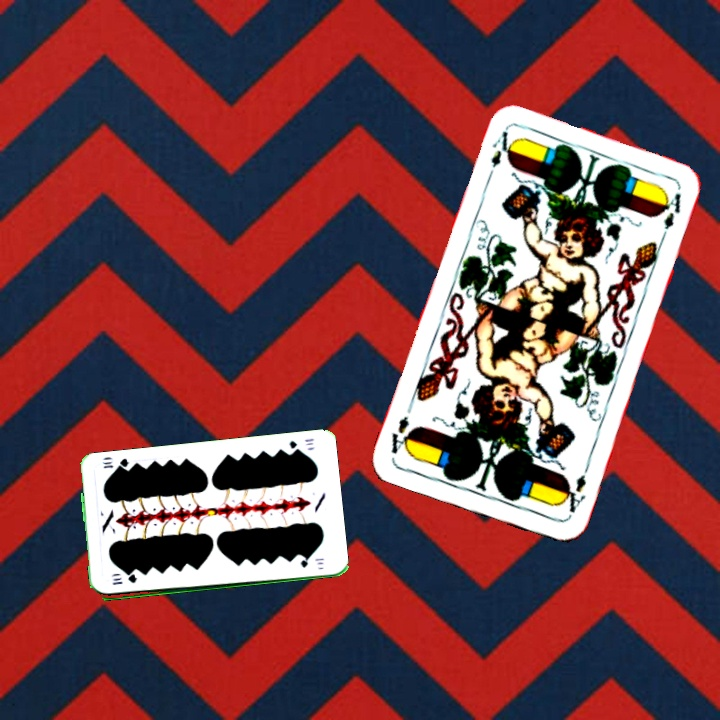EA: (558, 470, 589, 519), (487, 127, 516, 170)
G10: (285, 434, 316, 455), (109, 573, 140, 587)
